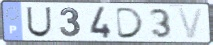3: (149, 7, 174, 39), (58, 6, 82, 39)
4: (89, 5, 114, 40)
D: (115, 6, 146, 39)
U: (25, 6, 53, 39)
V: (176, 7, 205, 40)
